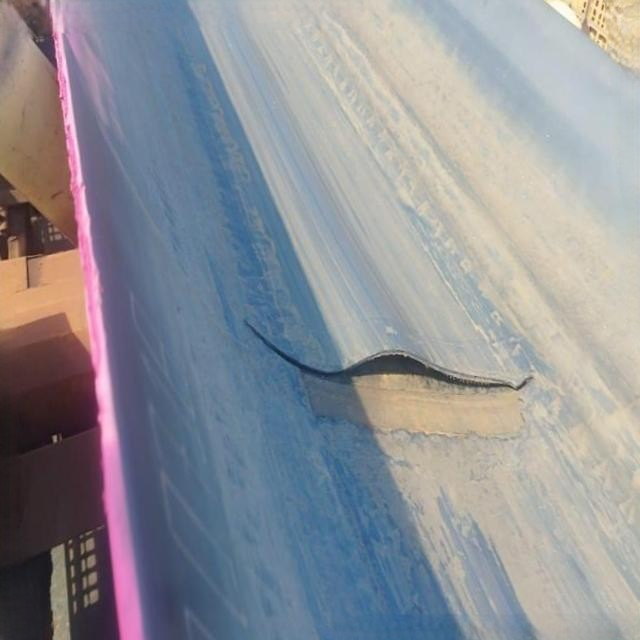Tear: (240, 312, 541, 402)
